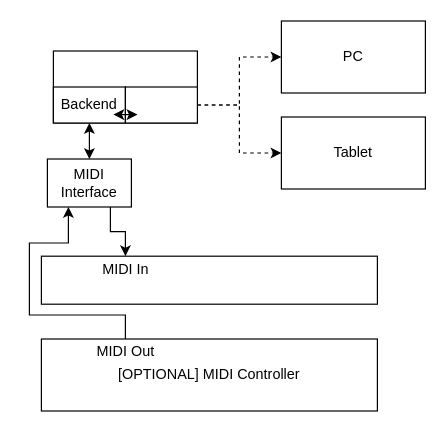
Image size: 446x432. Some labels were removed from this diagram. The shapes that lost their labels are listed below. From the top down, each one's box as (x1, y1, x2, y2) in pixels, then its label:
(52, 50, 197, 123): DX7Panel Host
(124, 86, 197, 123): Frontend
(40, 255, 377, 304): DX7
